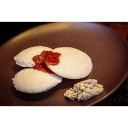idly: (49, 46, 92, 78), (15, 67, 61, 92), (14, 45, 50, 67)
